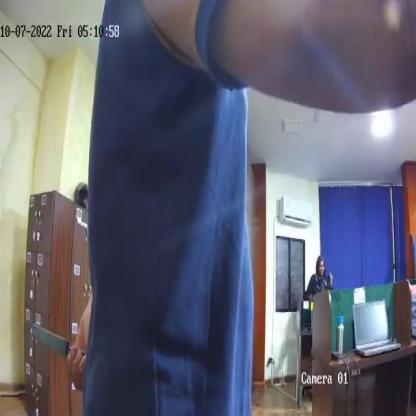Knife: (29, 320, 87, 376)
